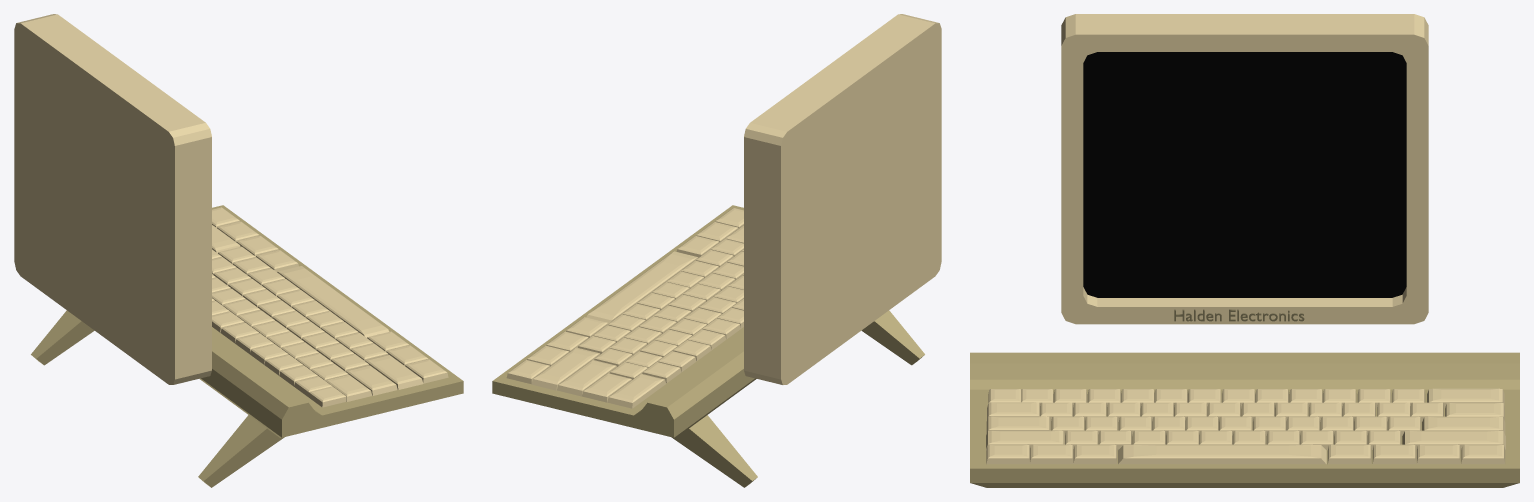
The model's file is terminal-cruiser-updated.fbx.
3 views of the same model, side by side, from view 1: azimuth 30°, elevation 25°; view 2: azimuth 150°, elevation 25°; view 3: azimuth 270°, elevation 25° (orthographic). The views are drawn at different scales.
Parts seen in each view (by area): view 1: Cube, Cube.002, Cube.001; view 2: Cube, Cube.002, Cube.001; view 3: Cube, Cube.002, Cube.001, Text.
Boxes of the visible parts, x1=… form: Cube: x1=14, y1=14, x2=211, y2=384; Cube.002: x1=212, y1=207, x2=448, y2=407; Cube.001: x1=31, y1=205, x2=463, y2=487; Cube: x1=744, y1=14, x2=941, y2=384; Cube.002: x1=506, y1=208, x2=743, y2=408; Cube.001: x1=492, y1=205, x2=924, y2=487; Cube: x1=1061, y1=14, x2=1428, y2=324; Cube.002: x1=986, y1=388, x2=1505, y2=464; Cube.001: x1=970, y1=352, x2=1519, y2=487; Text: x1=1174, y1=309, x2=1304, y2=321.
Size of the model in its own units: 206 by 280 by 344.
